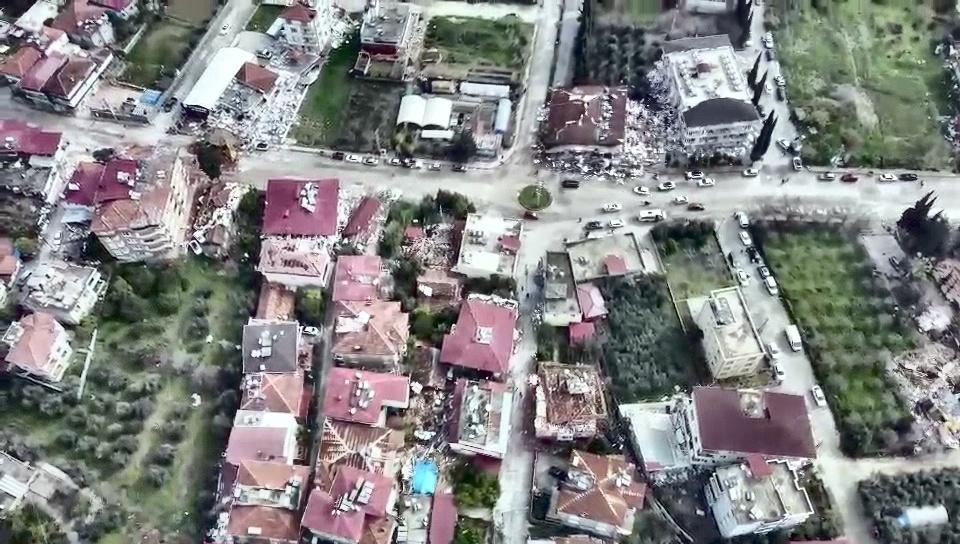kapali: (163, 131, 276, 190)
